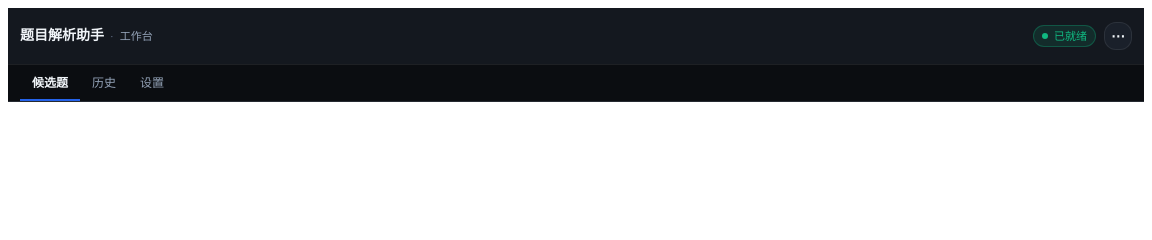
Test case: UI-03 Side Panel Workspace Shell Test Matrix (including Review Fix 01) › RF01-X: Accessibility Semantics › RF01-X06: Product popover has no unsupported role=menu / role=menuitem
Click the button named "工作台菜单" at (1118, 36), box [1104, 22, 1132, 50]
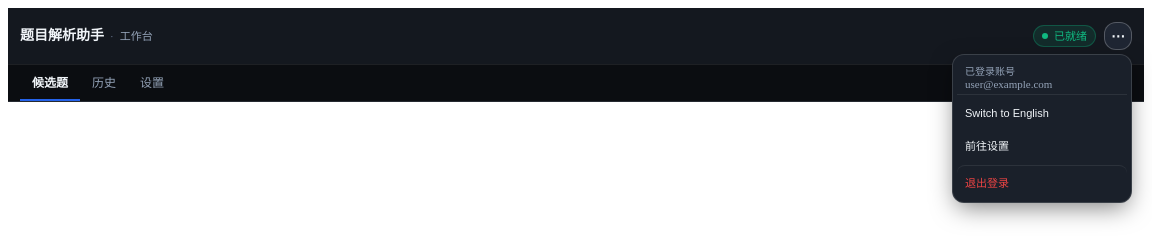
Expected: the button "Switch to English" is shown, [957, 99, 1127, 127]
Expected: the button "前往设置" is shown, [957, 129, 1127, 161]
Expected: the button "退出登录" is shown, [957, 165, 1127, 198]
